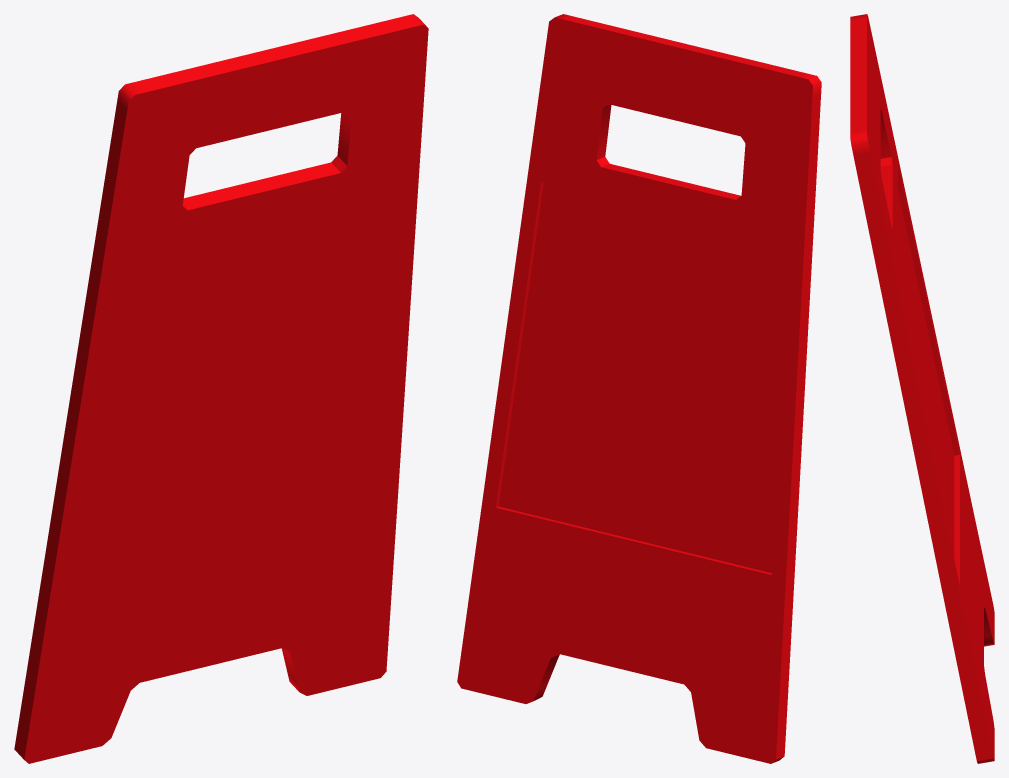
The model's file is wet_floor_sign.FBX.
The picture shows the model from 3 angles, left to right: view 1: azimuth 30°, elevation 25°; view 2: azimuth 150°, elevation 25°; view 3: azimuth 270°, elevation 25°; orthographic projection. The views are drawn at different scales.
Parts seen in each view (by area): view 1: WETFloor004; view 2: WETFloor004; view 3: WETFloor004.
Part boxes in pixels (box(x1,y1,x2,y2)): WETFloor004: box(14, 14, 428, 763); WETFloor004: box(457, 14, 821, 763); WETFloor004: box(850, 14, 994, 763).
Bounding box in the file's own units: 39.23 × 74.42 × 15.83.
